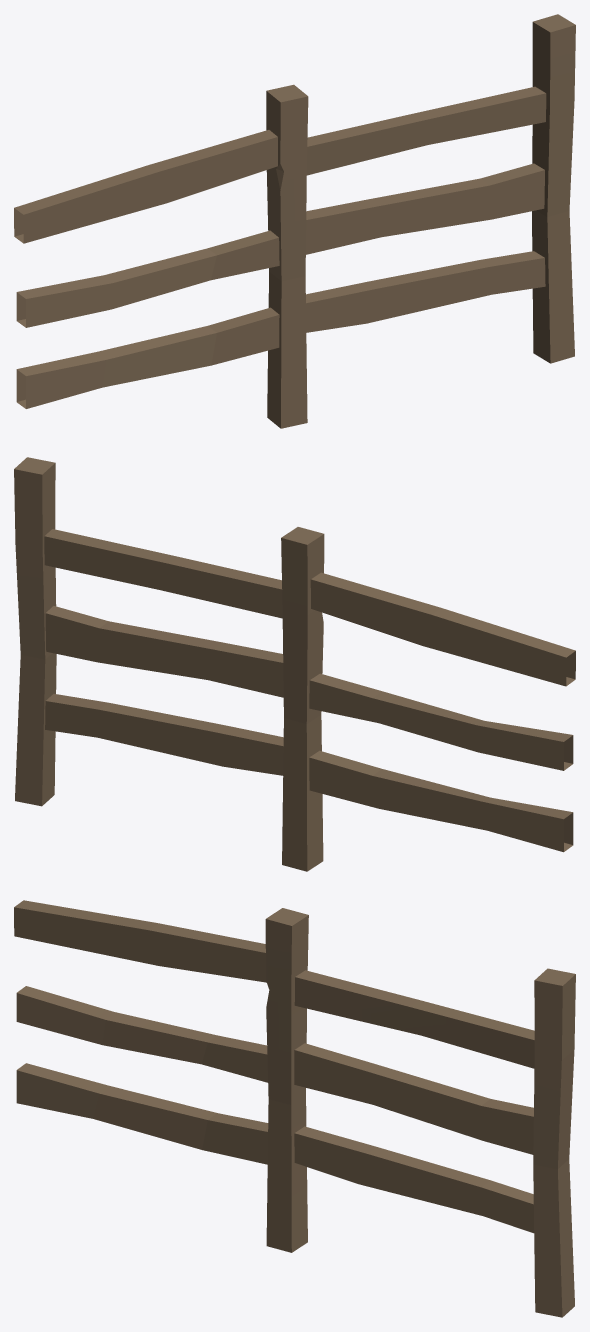
Rendered from fence_b_2m_02.FBX.
3 renders of one model, top to bottom at view 1: azimuth 30°, elevation 25°; view 2: azimuth 150°, elevation 25°; view 3: azimuth 330°, elevation 25°, orthographic.
Visible parts, largest first — view 1: fence_b_2m_02; view 2: fence_b_2m_02; view 3: fence_b_2m_02.
Boxes of the visible parts, <box> form: fence_b_2m_02: <box>14,14,575,428</box>; fence_b_2m_02: <box>14,457,575,871</box>; fence_b_2m_02: <box>14,900,575,1317</box>.
Size of the model in its own units: 2.05 by 1.18 by 0.1089.
